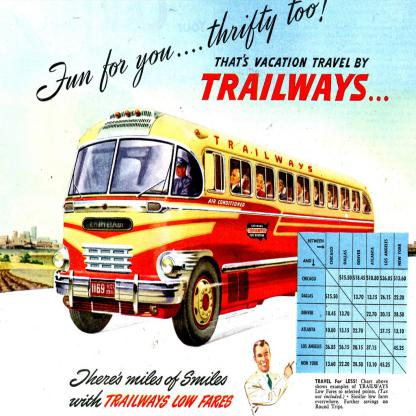Bus: (53, 107, 375, 347)
